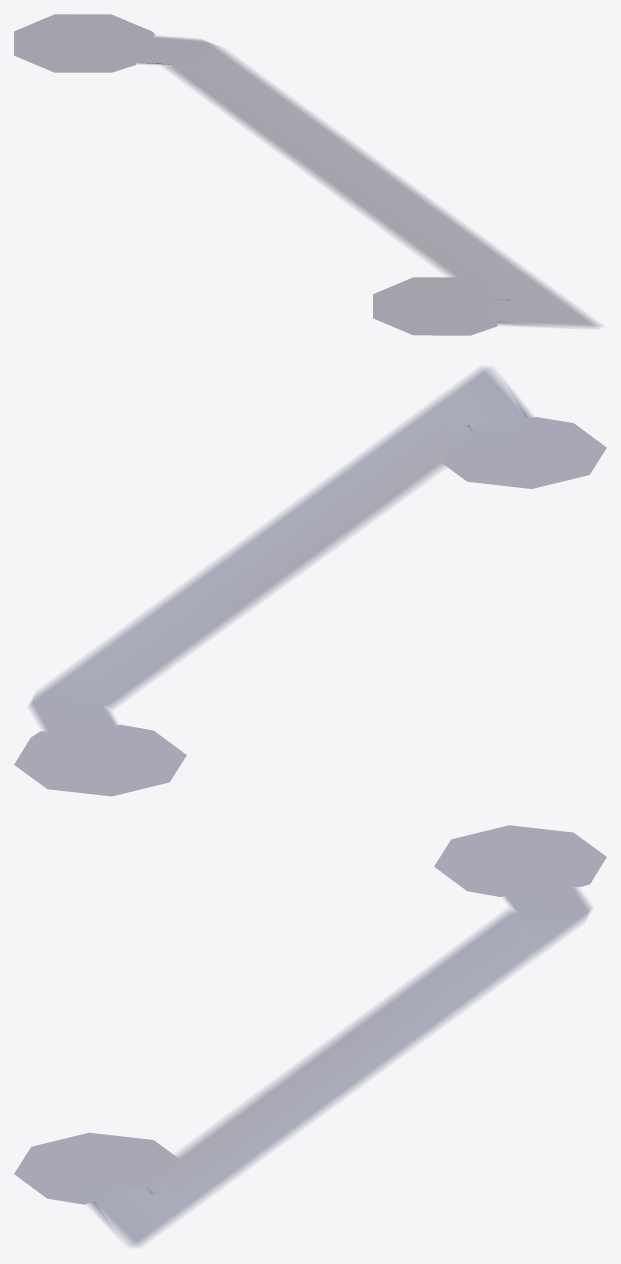
3 views of the same model, one above another, from view 1: azimuth 30°, elevation 25°; view 2: azimuth 150°, elevation 25°; view 3: azimuth 330°, elevation 25° (orthographic). The views are drawn at different scales.
Visible parts, largest first — view 1: Joint_0_Object_0, Joint_0_Object_1; view 2: Joint_0_Object_0, Joint_0_Object_1; view 3: Joint_0_Object_0, Joint_0_Object_1.
Boxes of the visible parts, bbox=[...] form: Joint_0_Object_0: bbox=[14, 14, 569, 335]; Joint_0_Object_1: bbox=[471, 299, 599, 334]; Joint_0_Object_0: bbox=[14, 393, 606, 796]; Joint_0_Object_1: bbox=[446, 368, 571, 437]; Joint_0_Object_0: bbox=[14, 825, 606, 1221]; Joint_0_Object_1: bbox=[48, 1184, 174, 1245].
Size of the model in its own units: 347 by 6.5 by 1695.
Materials: 1 (1 with a texture image).
